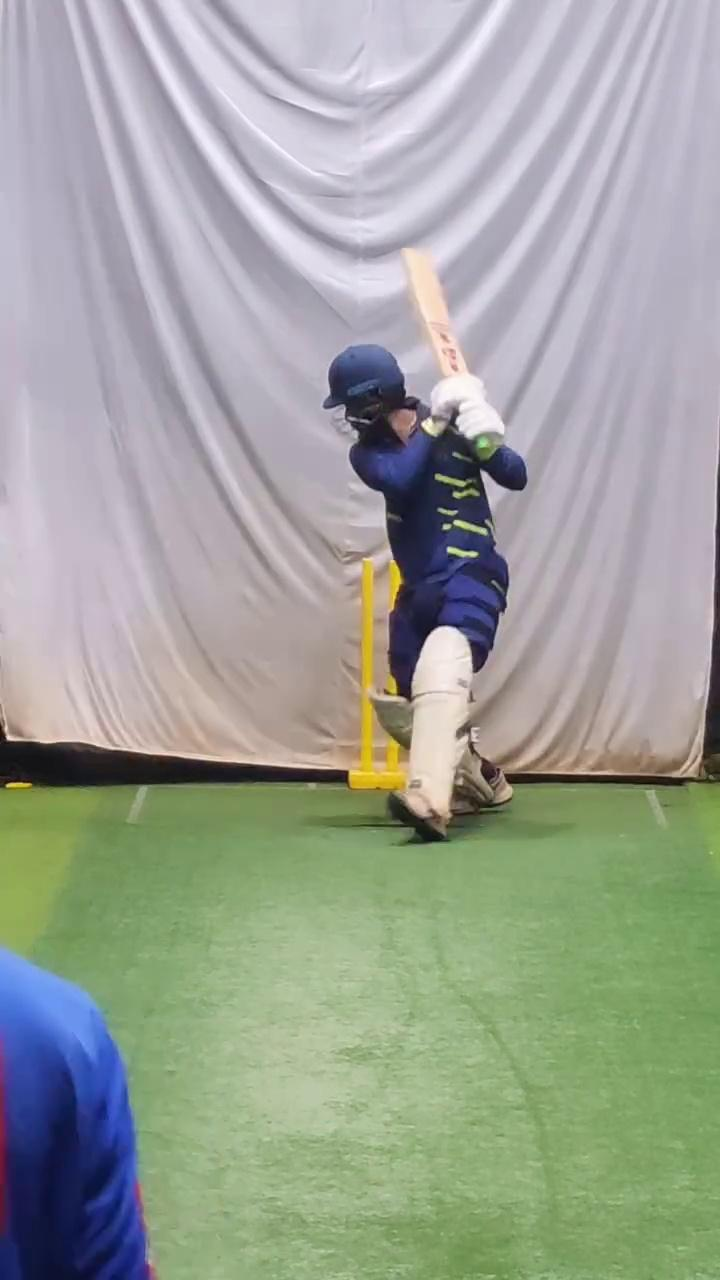bat: (400, 239, 469, 381)
